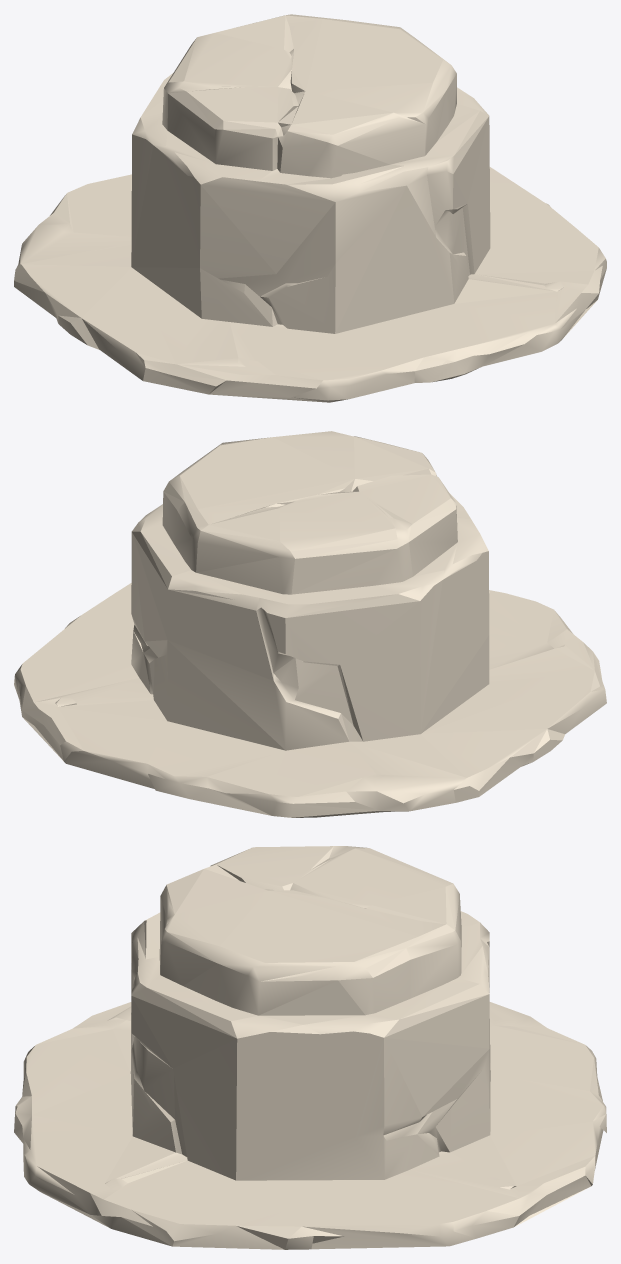
Rendered from plinth.glb.
3 views of the same model, one above another, from view 1: azimuth 30°, elevation 25°; view 2: azimuth 150°, elevation 25°; view 3: azimuth 270°, elevation 25° (orthographic). The views are drawn at different scales.
Bounding box in the file's own units: 2 × 0.8299 × 1.99.
